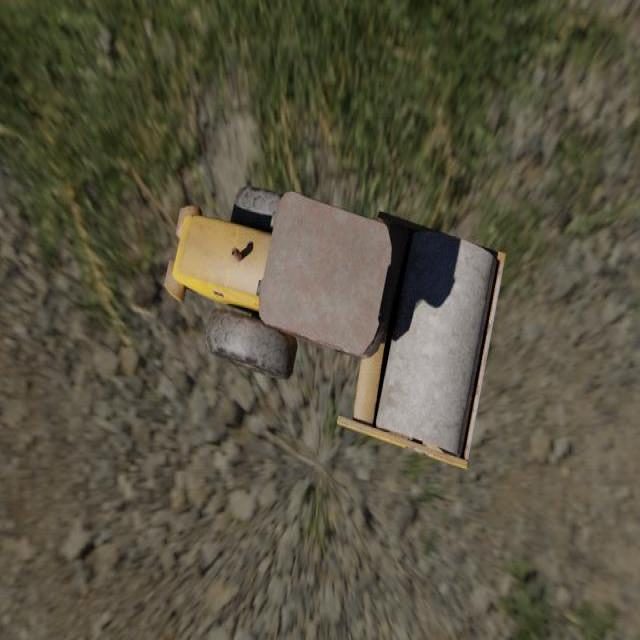Roller: (163, 185, 507, 468)
